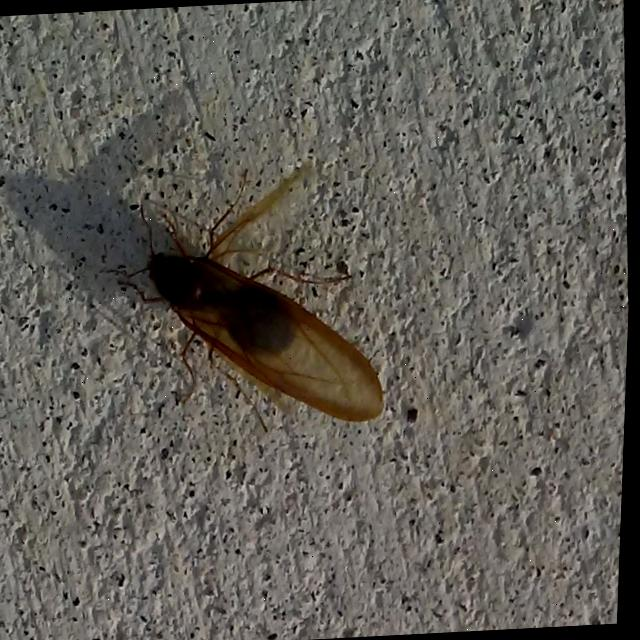Alive-Male-Alate: (98, 157, 397, 442)
